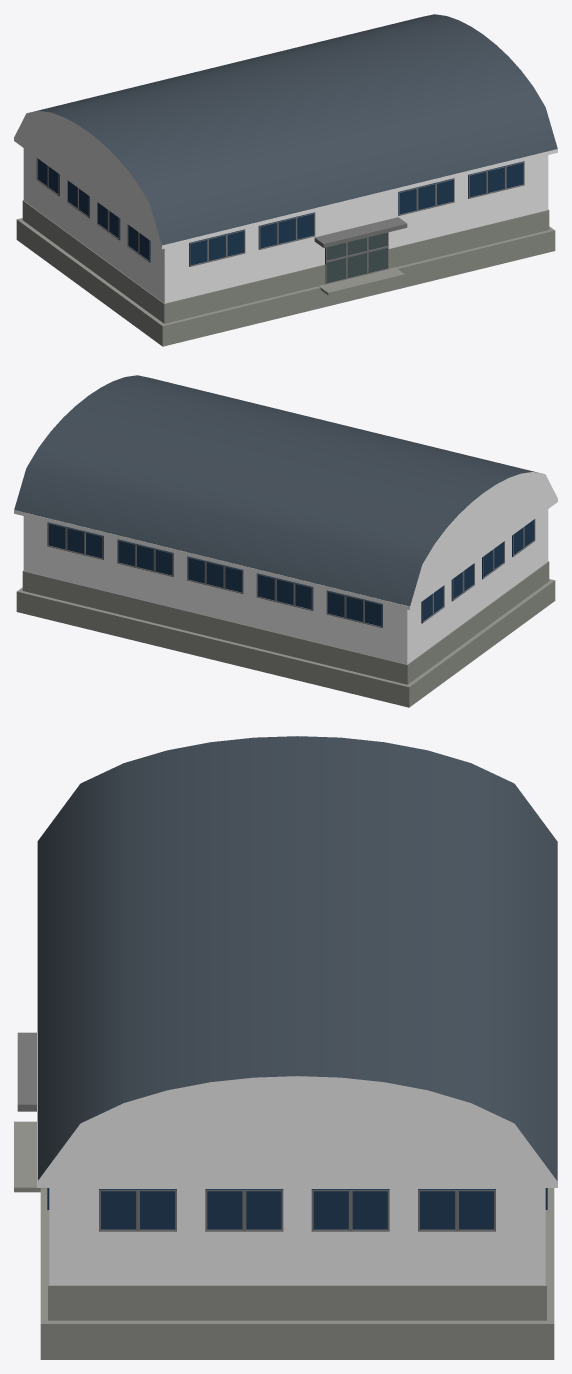
Rendered from mashup-gym-top-prebuilt_close.fbx.
The picture shows the model from 3 angles, top to bottom: view 1: azimuth 30°, elevation 25°; view 2: azimuth 150°, elevation 25°; view 3: azimuth 270°, elevation 25°; orthographic projection. The views are drawn at different scales.
Visible parts, largest first — view 1: a200.Gym.001; view 2: a200.Gym.001; view 3: a200.Gym.001.
Part boxes in pixels (<box>): a200.Gym.001: <box>14,14,557,346</box>; a200.Gym.001: <box>14,375,557,707</box>; a200.Gym.001: <box>14,736,557,1359</box>.
Bounding box in the file's own units: 22.7 × 8.88 × 15.35.
